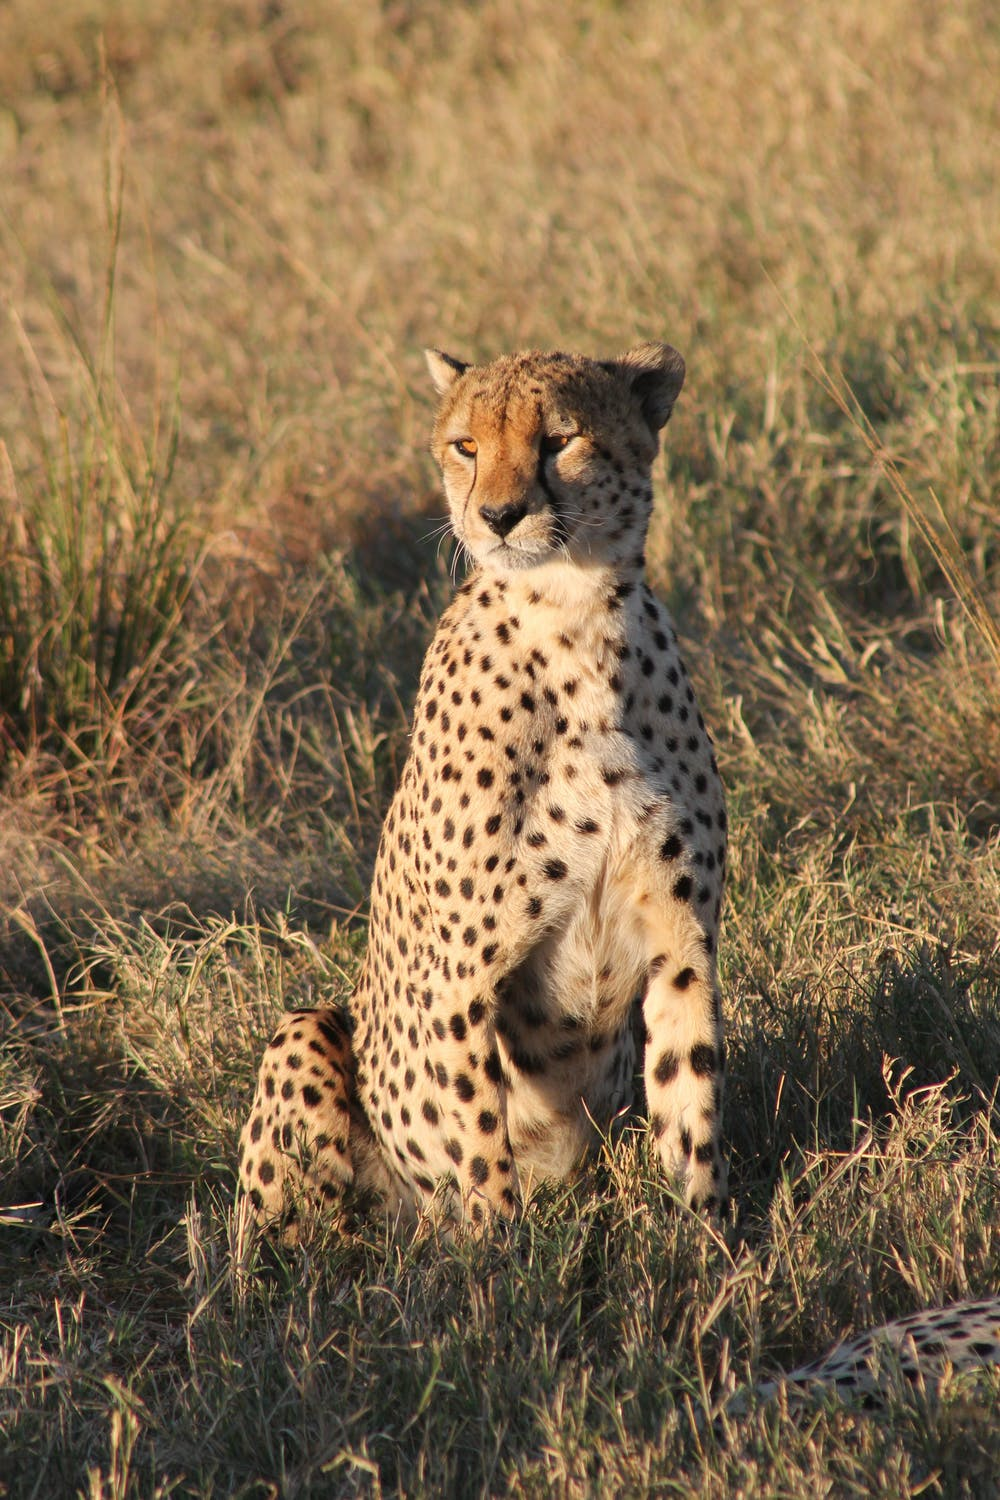cheetah: (406, 336, 714, 594)
